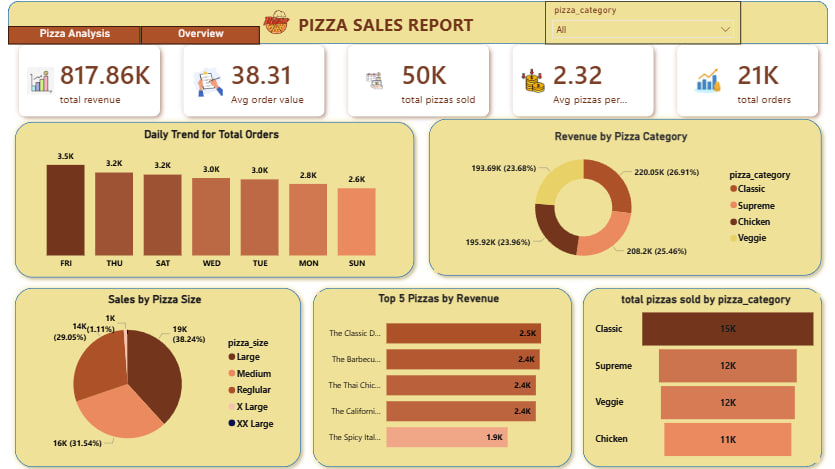

Layout of this report page (visuals, bound fields, positions):
{"tool":"powerbi","page":{"name":"Page 1","canvas":[1280,720],"ordinal":0},"visuals":[{"type":"cardVisual","fields":{"Data":["pizza_sales.total revenue","pizza_sales.Avg order value","pizza_sales.total pizzas sold","pizza_sales.Avg pizzas per order","pizza_sales.total orders"]},"box":[0,38.1,1279.8,167.8],"z":0},{"type":"shape","box":[12.2,0,1250.8,65.6],"z":1000},{"type":"textbox","box":[450.8,12,361.3,53.3],"z":2000},{"type":"image","box":[335.5,0,172,65.4],"z":3000},{"type":"shape","box":[13.7,174.8,627.1,255.3],"z":4000},{"type":"clusteredColumnChart","title":"Daily Trend for Total Orders","fields":{"Category":["pizza_sales.order day"],"Y":["pizza_sales.total orders"]},"box":[36,193.6,572.3,224.5],"z":5000},{"type":"shape","box":[646,171.4,616.9,257],"z":6000},{"type":"donutChart","title":"Revenue by Pizza Category","fields":{"Y":["Sum(pizza_sales.total_price)"],"Category":["pizza_sales.pizza_category"]},"box":[661.4,197.1,570.6,217.6],"z":7000},{"type":"shape","box":[13.7,428.4,454.1,291.3],"z":8000},{"type":"shape","box":[467.8,428.4,413,291.3],"z":9000},{"type":"shape","box":[880.2,428.6,382.9,291.4],"z":10000},{"type":"funnel","fields":{"Category":["pizza_sales.pizza_category"],"Y":["pizza_sales.total pizzas sold"]},"box":[903.1,445.4,347.8,259.3],"z":11000},{"type":"pieChart","title":"Sales by Pizza Size","fields":{"Category":["pizza_sales.pizza_size"],"Y":["Sum(pizza_sales.quantity)"]},"box":[36,445.5,399.3,258.7],"z":12000},{"type":"barChart","title":"Top 5 Pizzas by Revenue","fields":{"Category":["pizza_sales.pizza_name"],"Y":["Sum(pizza_sales.quantity)"]},"box":[483.2,443.8,371.8,258.7],"z":13000},{"type":"slicer","fields":{"Values":["pizza_sales.pizza_category"]},"box":[831.4,0,299,65.6],"z":14000},{"type":"actionButton","title":"Pizza Analysis","box":[12.8,38.3,202.3,27.7],"z":27000},{"type":"actionButton","title":"Overview","box":[215.1,38.3,181,27.7],"z":28000}]}

Visuals, with their boxes in screenshot pixels (x1, y1, x2, y2), scaled from the page's 1280x720 canvas onto the 835x469 screenshot:
cardVisual - pizza_sales.total revenue x pizza_sales.Avg order value: <box>0,25,834,134</box>
shape: <box>8,0,824,43</box>
textbox: <box>294,8,530,43</box>
image: <box>219,0,331,43</box>
shape: <box>9,114,418,280</box>
"Daily Trend for Total Orders" clusteredColumnChart: <box>23,126,397,272</box>
shape: <box>421,112,824,279</box>
"Revenue by Pizza Category" donutChart: <box>431,128,804,270</box>
shape: <box>9,279,305,468</box>
shape: <box>305,279,575,468</box>
shape: <box>574,279,824,468</box>
funnel - pizza_sales.pizza_category x pizza_sales.total pizzas sold: <box>589,290,816,459</box>
"Sales by Pizza Size" pieChart: <box>23,290,284,459</box>
"Top 5 Pizzas by Revenue" barChart: <box>315,289,558,458</box>
slicer - pizza_sales.pizza_category: <box>542,0,737,43</box>
"Pizza Analysis" actionButton: <box>8,25,140,43</box>
"Overview" actionButton: <box>140,25,258,43</box>
